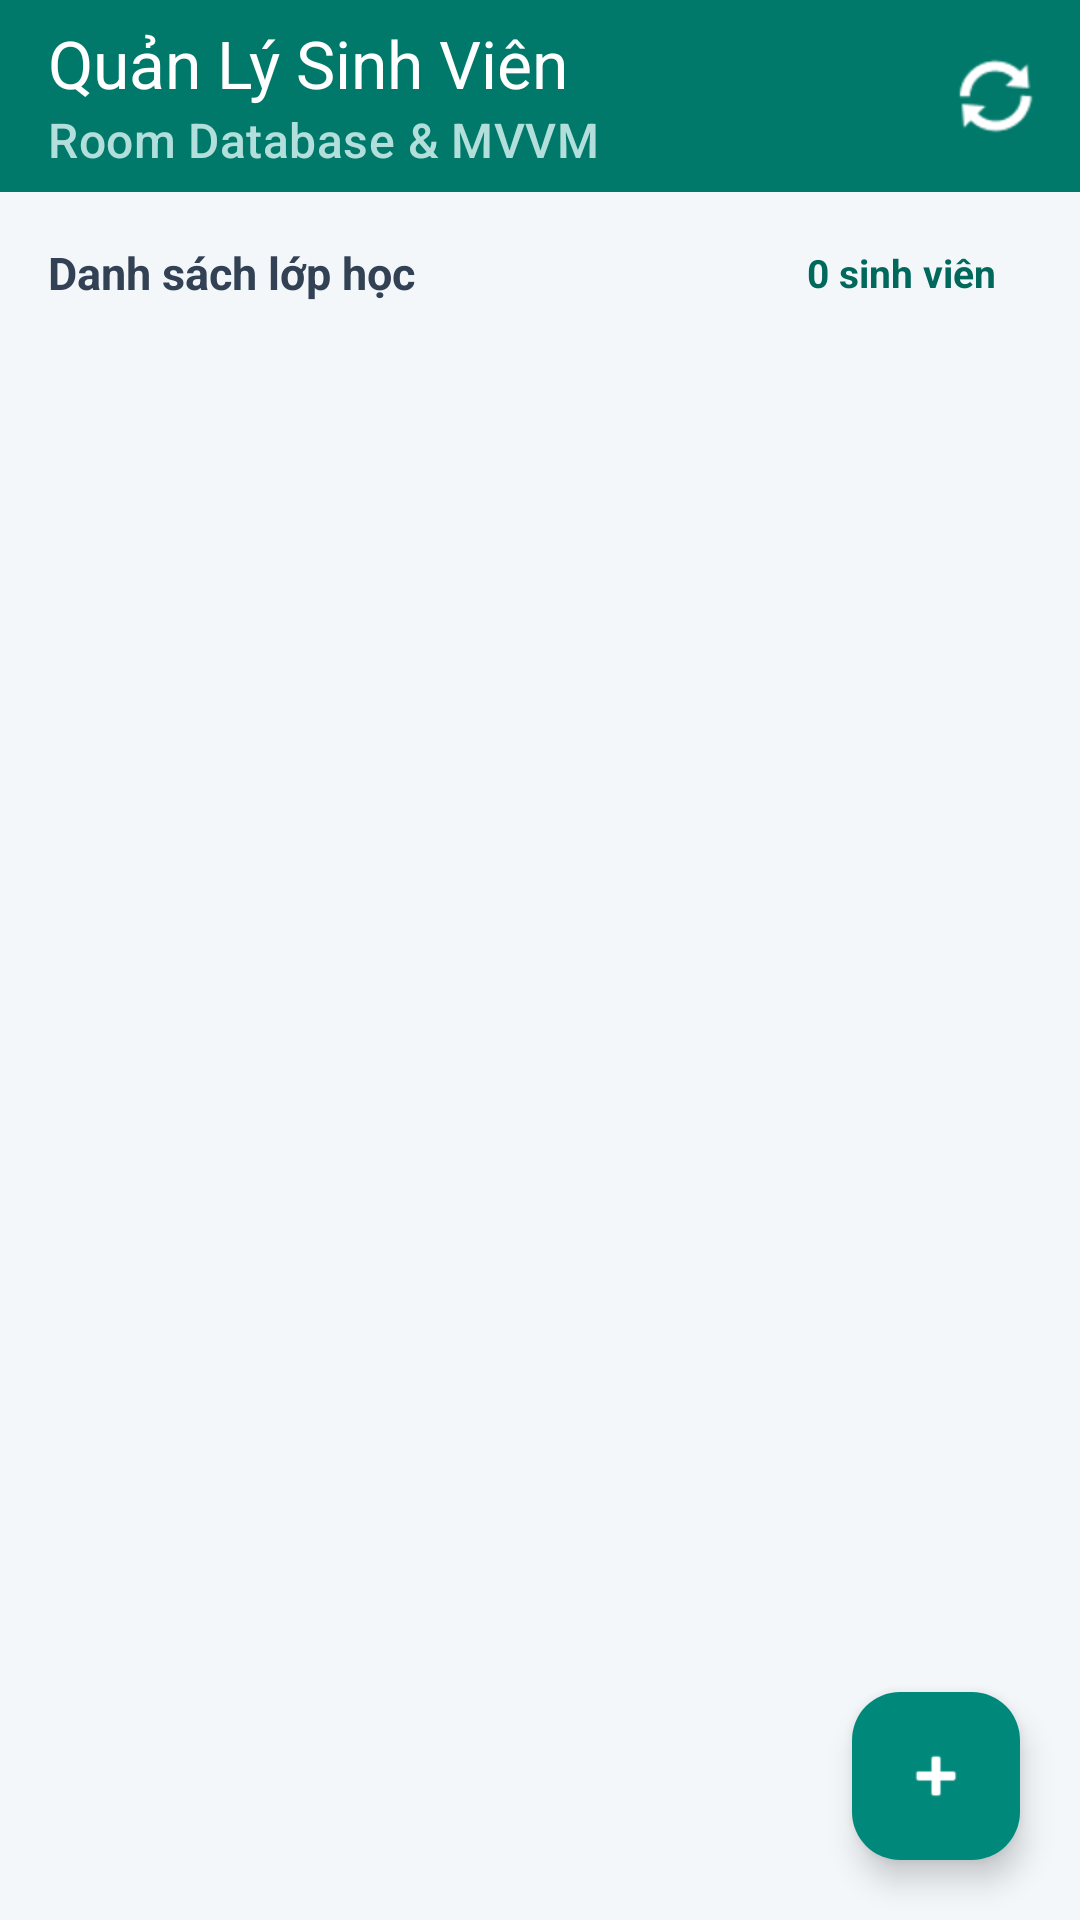

Where icons sit on this 1080x1920 app screen, as region(x1, y1, x2, y2):
Thêm sinh viên: region(852, 1692, 1020, 1860)
